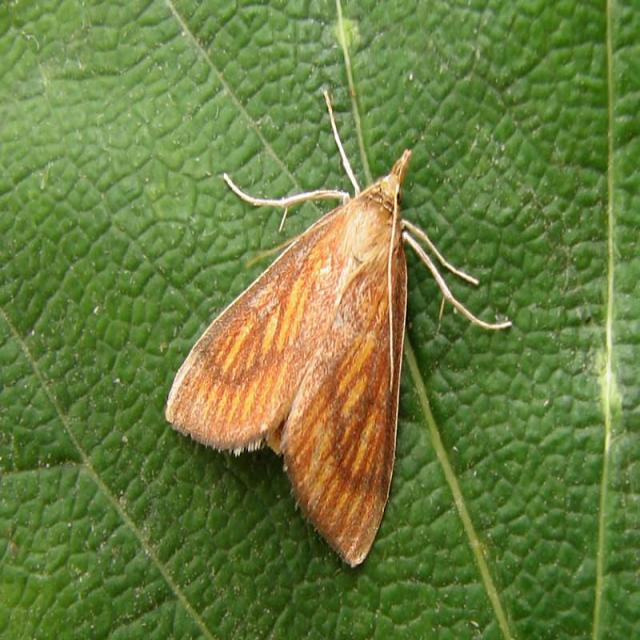cornborer-Adult-: (136, 77, 524, 574)
